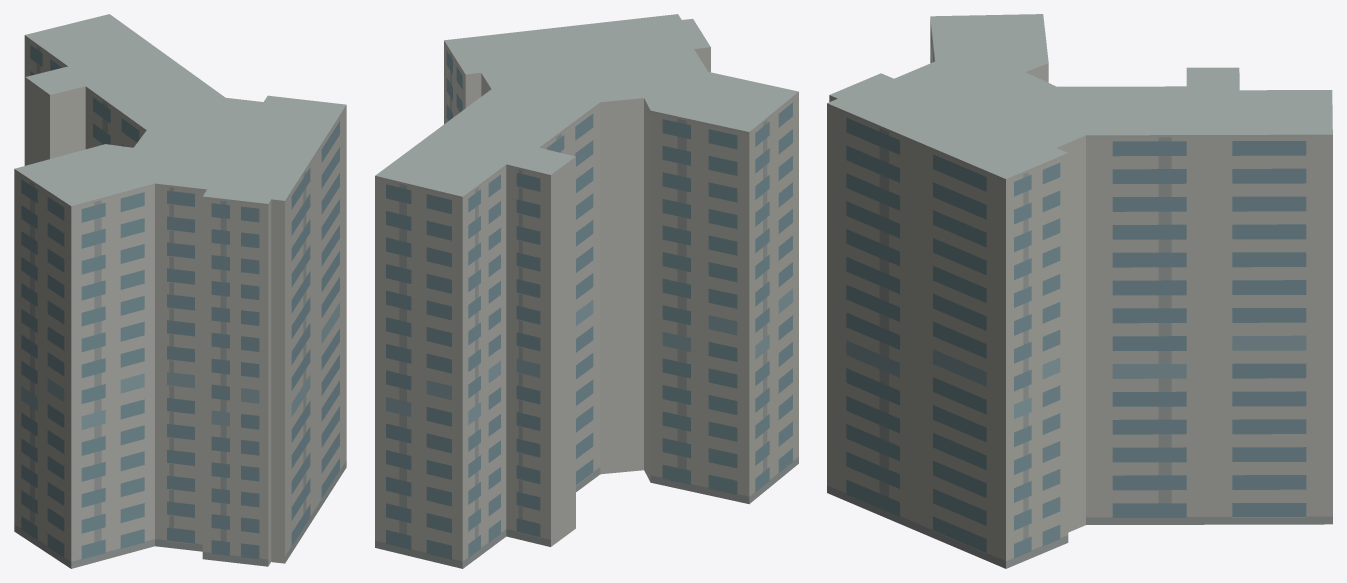
The model's file is residential-f9dc2241-bf48-41d5-b726-5f75a6647ad0.glb.
3 views of the same model, side by side, from view 1: azimuth 30°, elevation 25°; view 2: azimuth 150°, elevation 25°; view 3: azimuth 270°, elevation 25° (orthographic). The views are drawn at different scales.
Visible parts, largest first — view 1: residential-f9dc2241-bf48-41d5-b726-5f75a6647ad0.tmp; view 2: residential-f9dc2241-bf48-41d5-b726-5f75a6647ad0.tmp; view 3: residential-f9dc2241-bf48-41d5-b726-5f75a6647ad0.tmp.
Boxes of the visible parts, bbox=[...] form: residential-f9dc2241-bf48-41d5-b726-5f75a6647ad0.tmp: bbox=[14, 14, 346, 568]; residential-f9dc2241-bf48-41d5-b726-5f75a6647ad0.tmp: bbox=[375, 14, 798, 568]; residential-f9dc2241-bf48-41d5-b726-5f75a6647ad0.tmp: bbox=[827, 14, 1332, 568].
Bounding box in the file's own units: 36.36 × 40 × 47.05.
